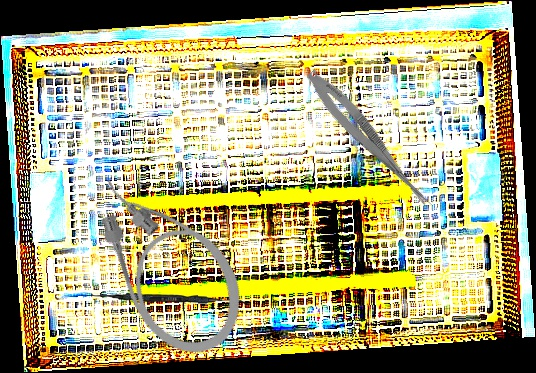Cannula: (76, 148, 262, 373)
Micro Scissor: (300, 65, 442, 214)
Spatula Surgical: (90, 292, 249, 305)
